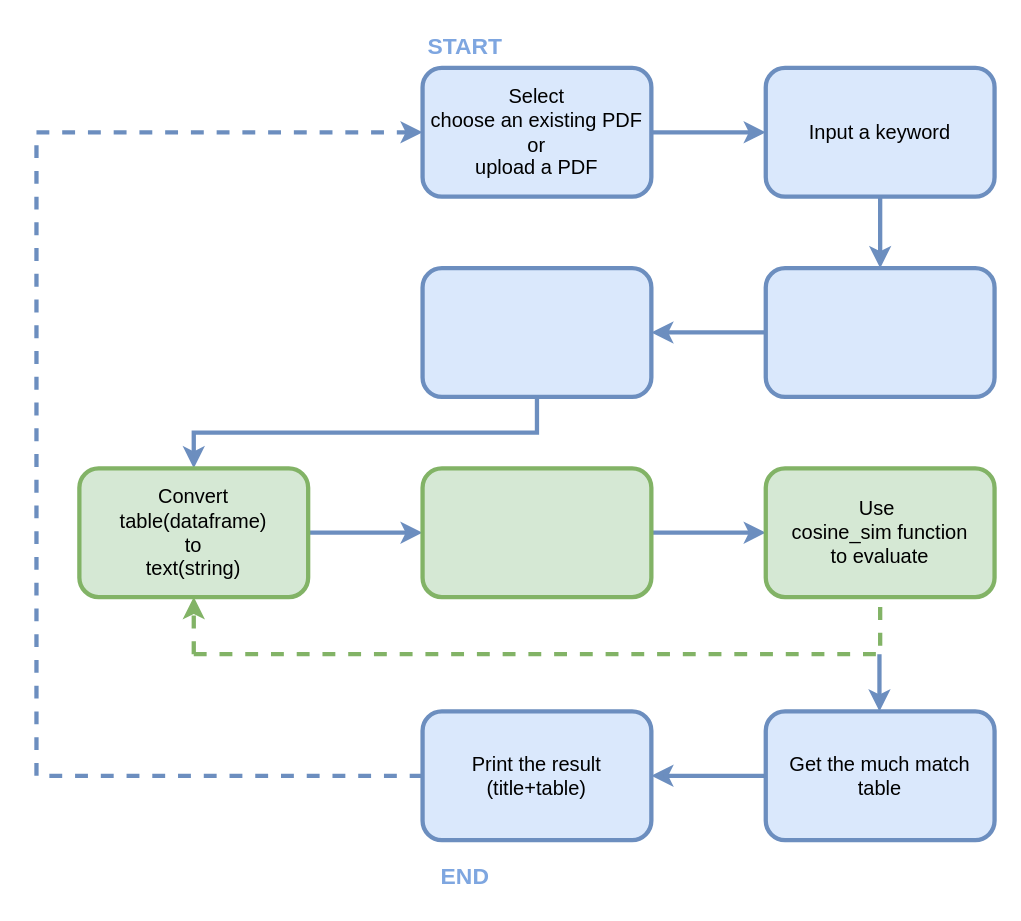
Some shapes in this 1021 by 921 pixel diagram are drawn without their labels. The centre of each missing label's shape, as x and y in pixels:
Convert text(table & keyword) to vector: (x=536, y=531)
Execute "Search" function: (x=879, y=331)
Parse the PDF then get tables in file: (x=536, y=331)
